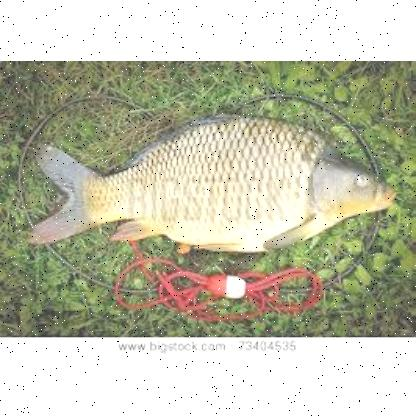ikan-mas: (26, 112, 402, 260)
